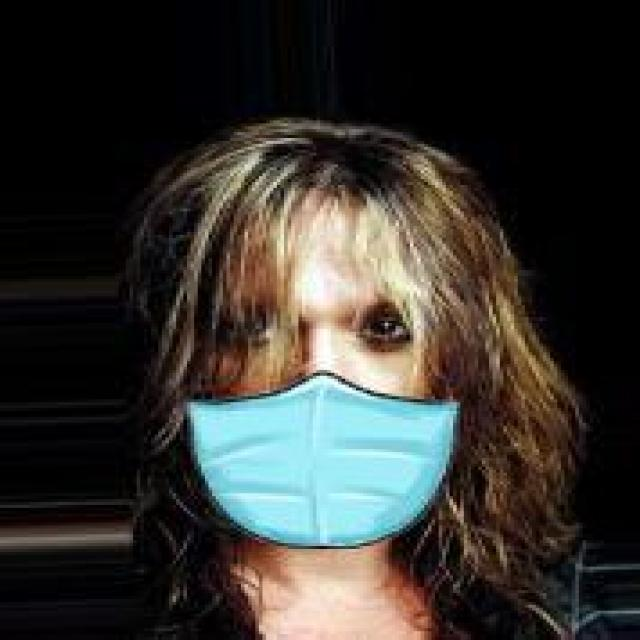mask: (137, 135, 507, 558)
